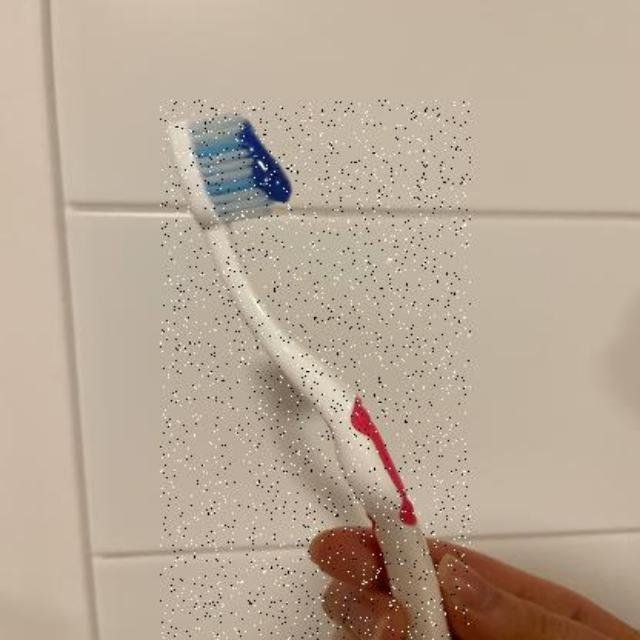toothbrush: (160, 100, 470, 640)
